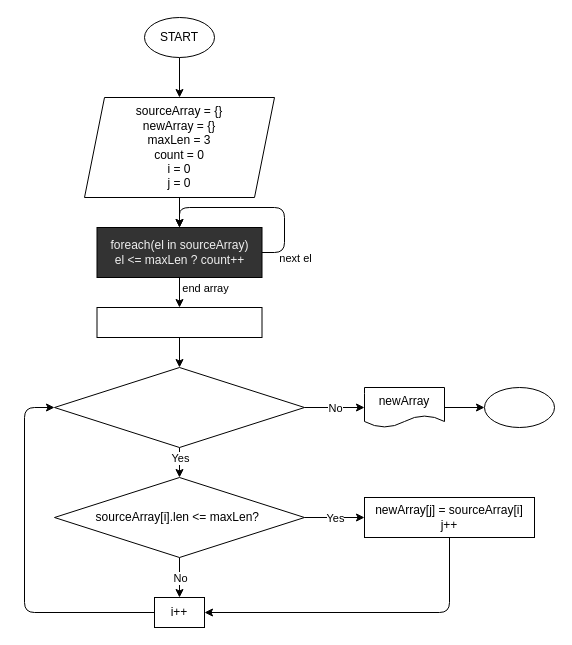
This 572x645 diagram has some shape labels left out. Here are the shapes that lost their labels. From the top down, the box of each, then its label:
(96, 306, 262, 338): sourceArray.Length = count
(54, 366, 304, 448): i < sourceArray[i].len ?
(484, 386, 554, 428): END
